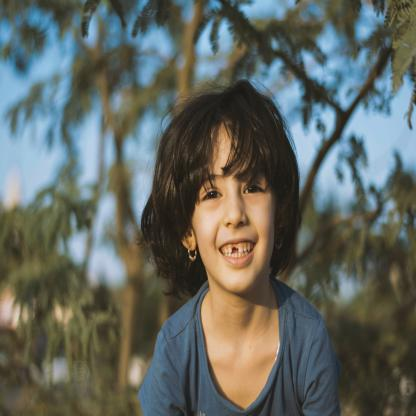Eye: (201, 188, 223, 201), (244, 183, 264, 195)
Mouth: (218, 238, 256, 265)
Nose: (224, 188, 247, 228)
